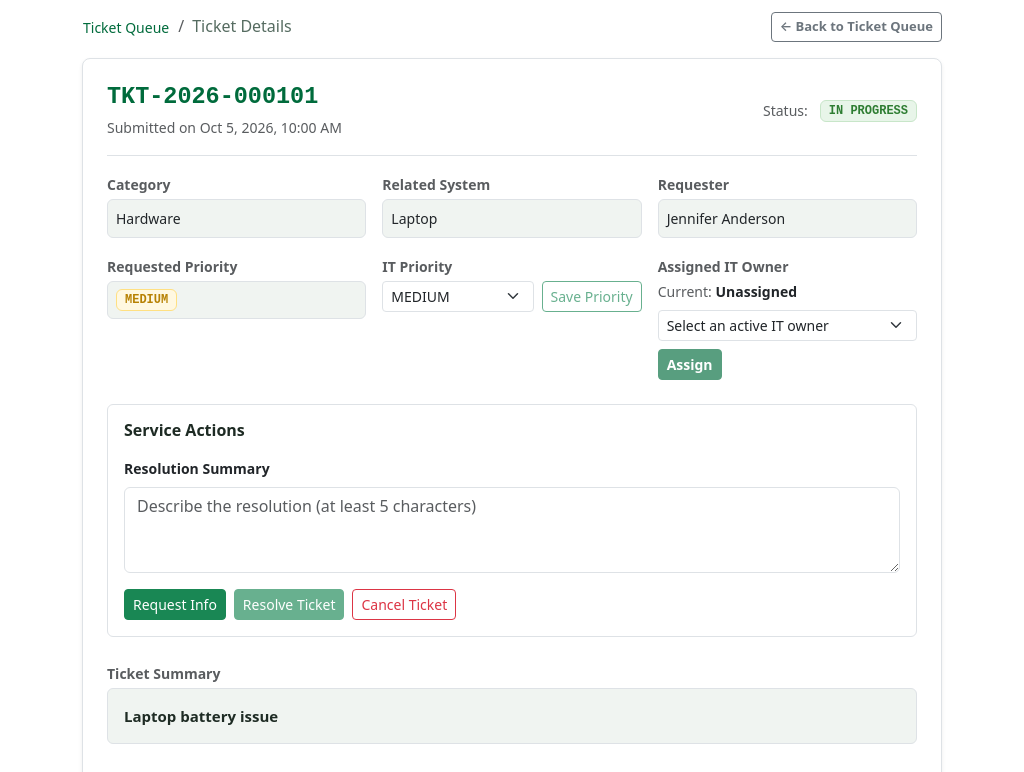
Test: Ticket Detail assignment controls › requires a resolution summary and submits a permitted status transition
The image size is (1024, 772).
Expected: the heading "TKT-2026-000101" is shown, [107,82,342,111]
Expected: the button "Resolve Ticket" is disabled, [234,589,344,620]
Type "Issue fixed" into the text box labelled "Resolution Summary" at coordinates (512, 530), box [124,487,900,573]
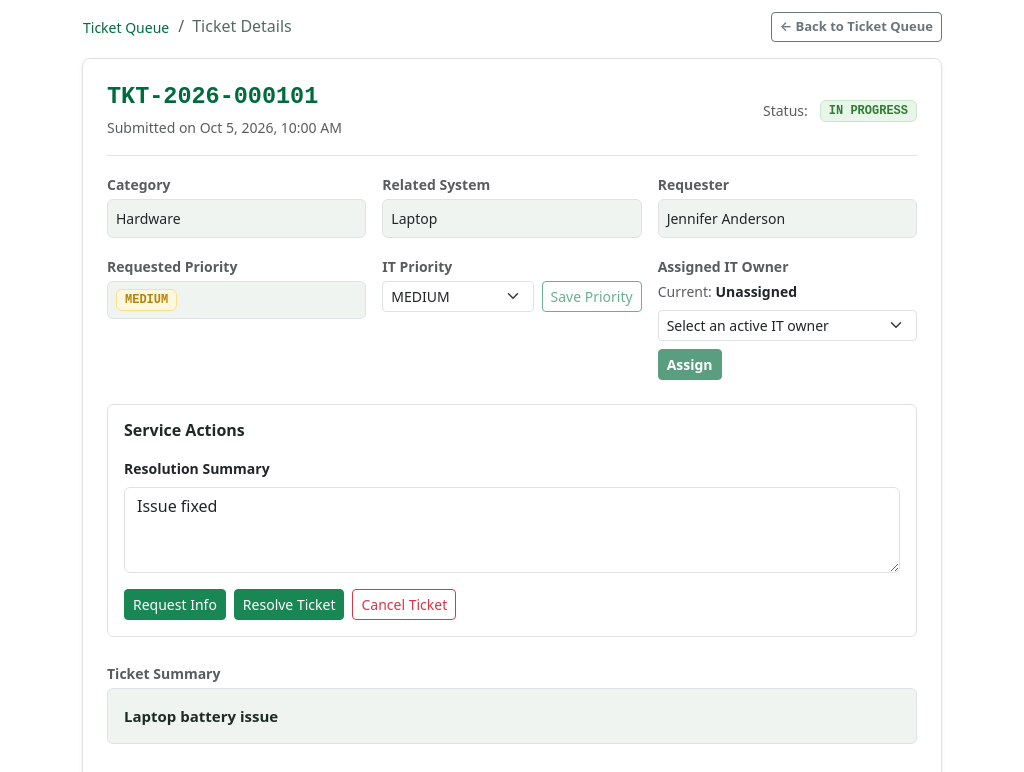
Now the button "Resolve Ticket" is enabled
Click the button "Resolve Ticket" at coordinates (289, 604), box [234,589,344,620]
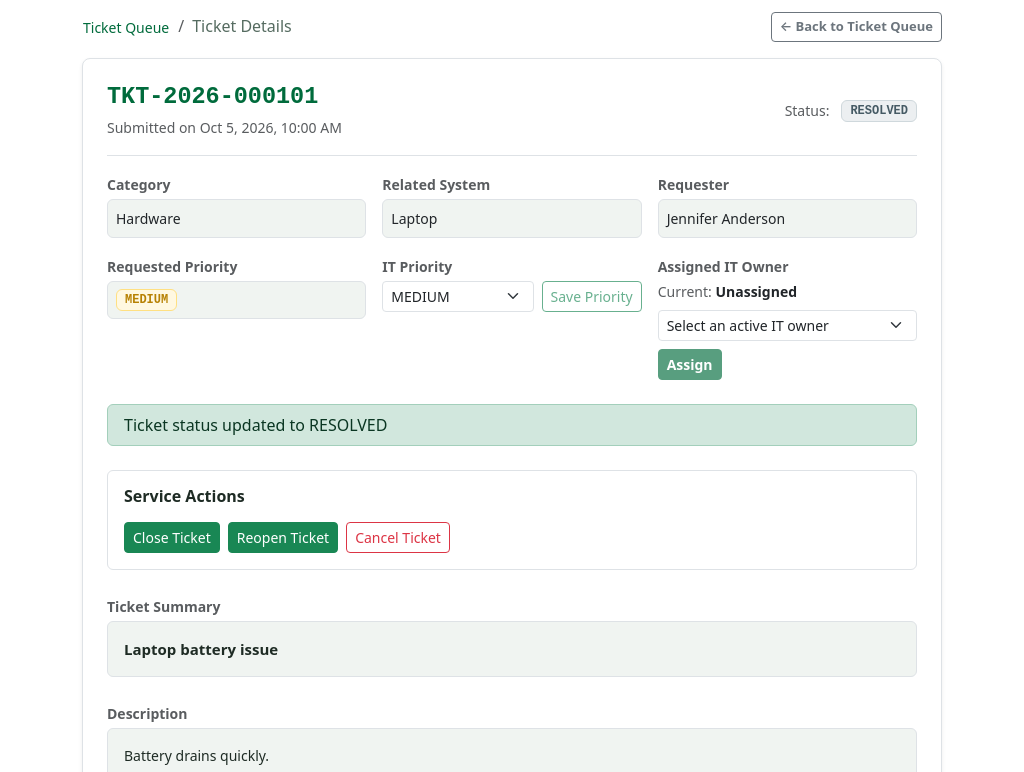
Now the message reads "Ticket status updated to RESOLVED", box [124,414,388,436]
